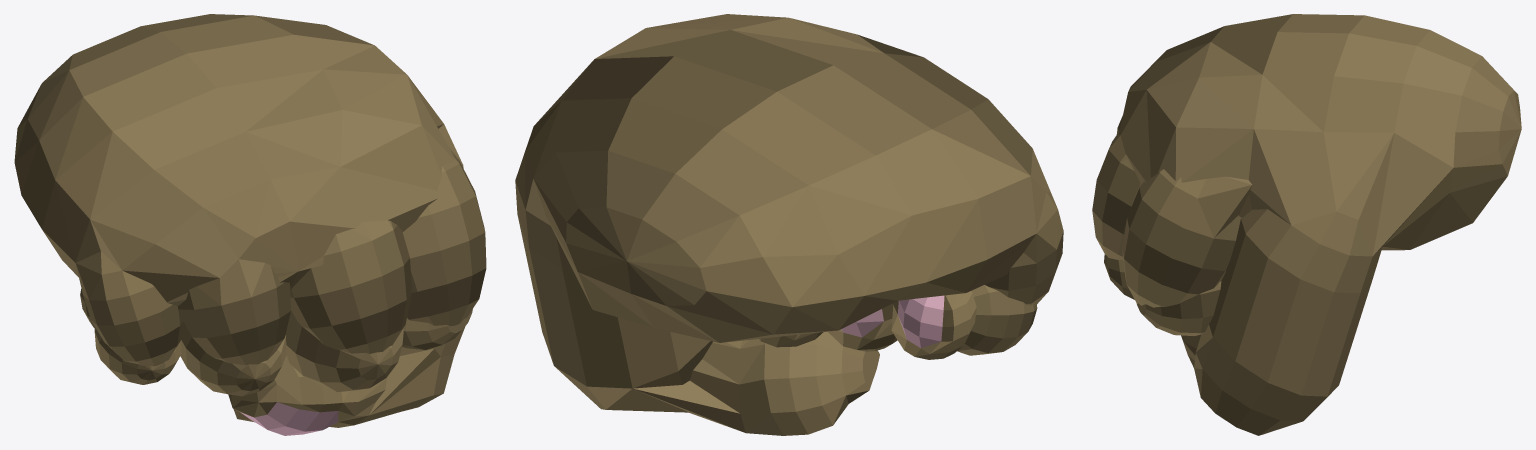
Rendered from Puny-2.fbx.
The picture shows the model from 3 angles, left to right: view 1: azimuth 30°, elevation 25°; view 2: azimuth 150°, elevation 25°; view 3: azimuth 270°, elevation 25°; orthographic projection. The views are drawn at different scales.
Visible parts, largest first — view 1: Puny; view 2: Puny; view 3: Puny.
Part boxes in pixels (<box>): Puny: <box>14,14,486,435</box>; Puny: <box>515,14,1063,435</box>; Puny: <box>1092,14,1521,435</box>.
Bounding box in the file's own units: 414 × 340 × 410.
